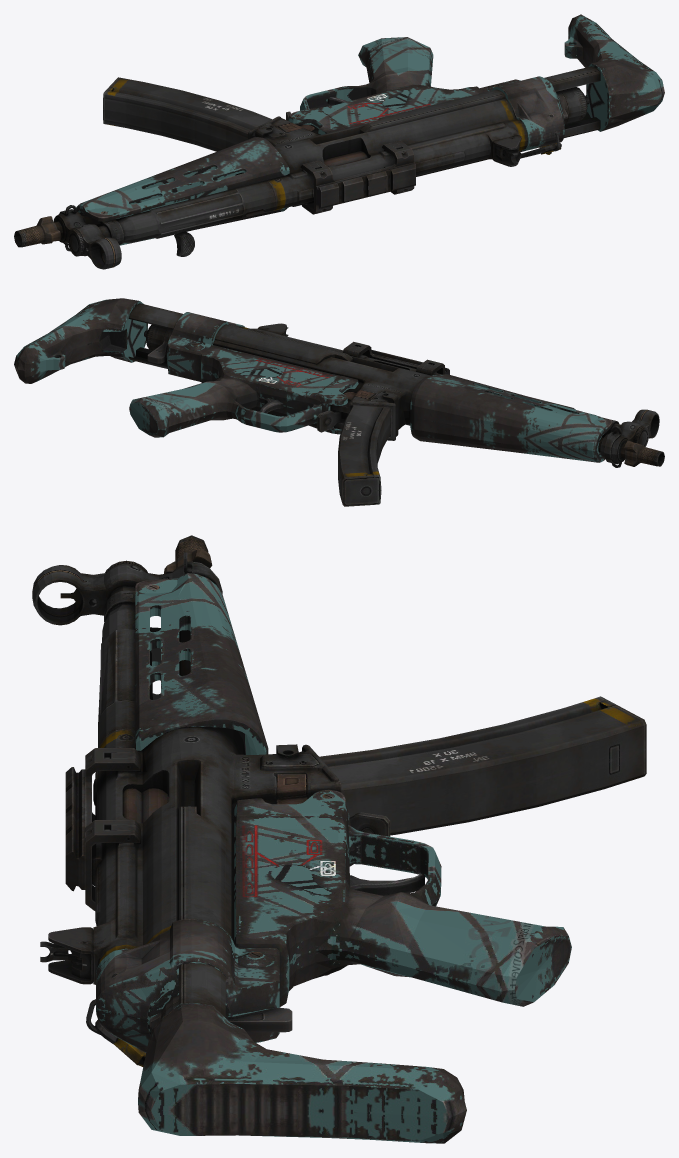
3 renders of one model, top to bottom at view 1: azimuth 30°, elevation 25°; view 2: azimuth 150°, elevation 25°; view 3: azimuth 270°, elevation 25°, orthographic. The views are drawn at different scales.
Parts seen in each view (by area): view 1: 3DSMeshMatrix (×3); view 2: 3DSMeshMatrix (×3); view 3: 3DSMeshMatrix (×3).
Boxes of the visible parts, x1,y1,x2,y2 form: 3DSMeshMatrix (×3): [14, 14, 664, 269]; 3DSMeshMatrix (×3): [14, 298, 664, 506]; 3DSMeshMatrix (×3): [32, 535, 646, 1143].
Bounding box in the file's own units: 1906194 × 202500 × 870410.
Materials: 3 (3 with a texture image).
